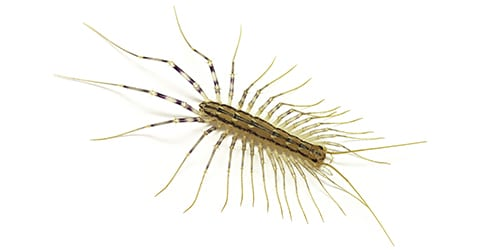centipede: (73, 8, 386, 225)
